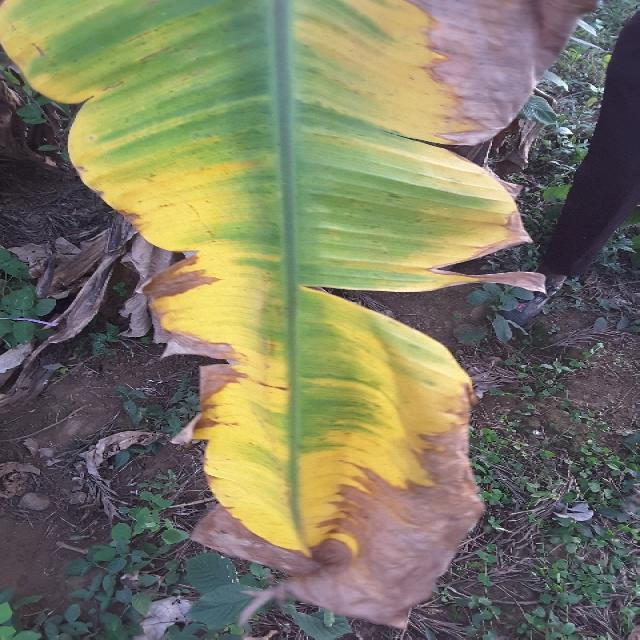Cordana: (0, 0, 535, 594)
